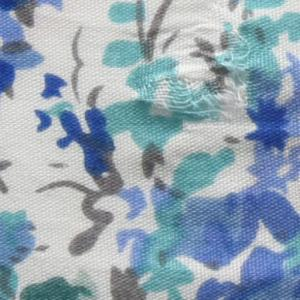Damage: (107, 14, 284, 129)
